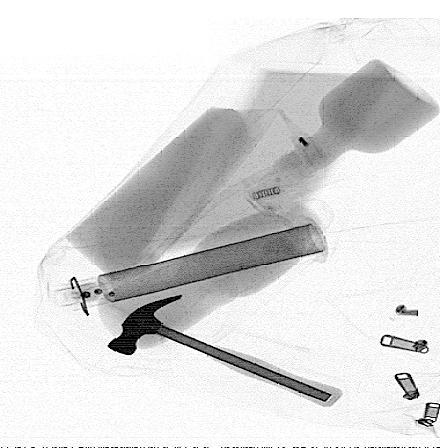Hammer: (107, 294, 343, 408)
